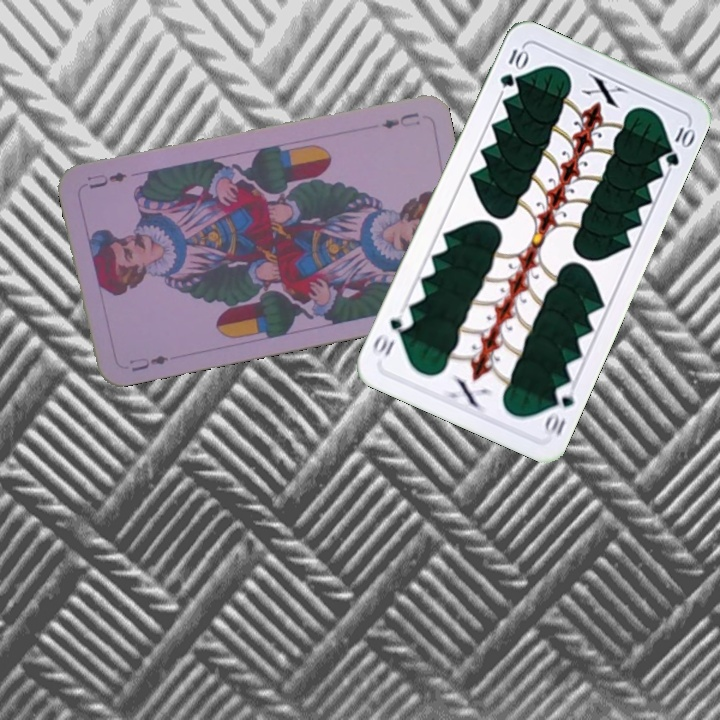EU: (377, 108, 422, 132), (125, 351, 171, 374)
G10: (540, 380, 578, 439), (495, 43, 530, 91)
